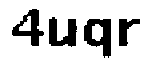4: (8, 8, 44, 50)
q: (83, 14, 111, 60)
r: (116, 15, 145, 49)
u: (45, 15, 81, 53)
